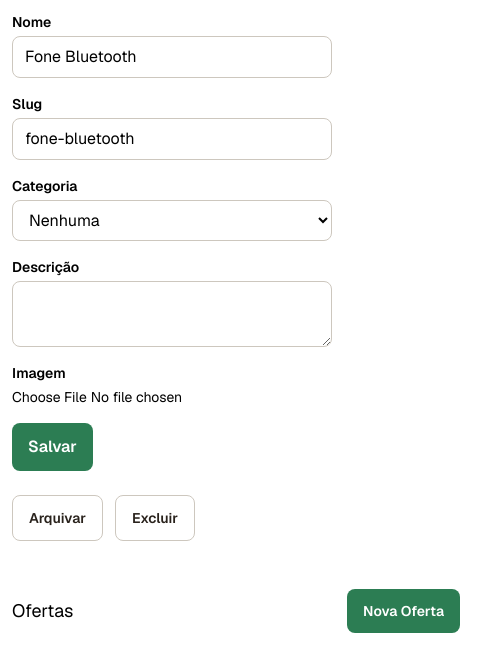
it: ProductDetail › excluir: conflito (409, com Ofertas) mostra a mensagem da API, permanece na página
Step 1. Click the button "Excluir" → {"x": 155, "y": 518}, box x1=115 y1=495 x2=195 y2=541
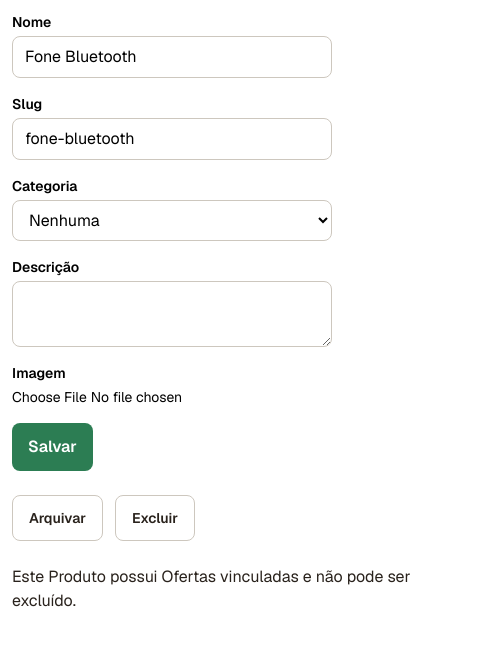
Result: the text "Este Produto possui Ofertas vinculadas e não pode ser excluído." is shown at x1=12 y1=565 x2=460 y2=613
